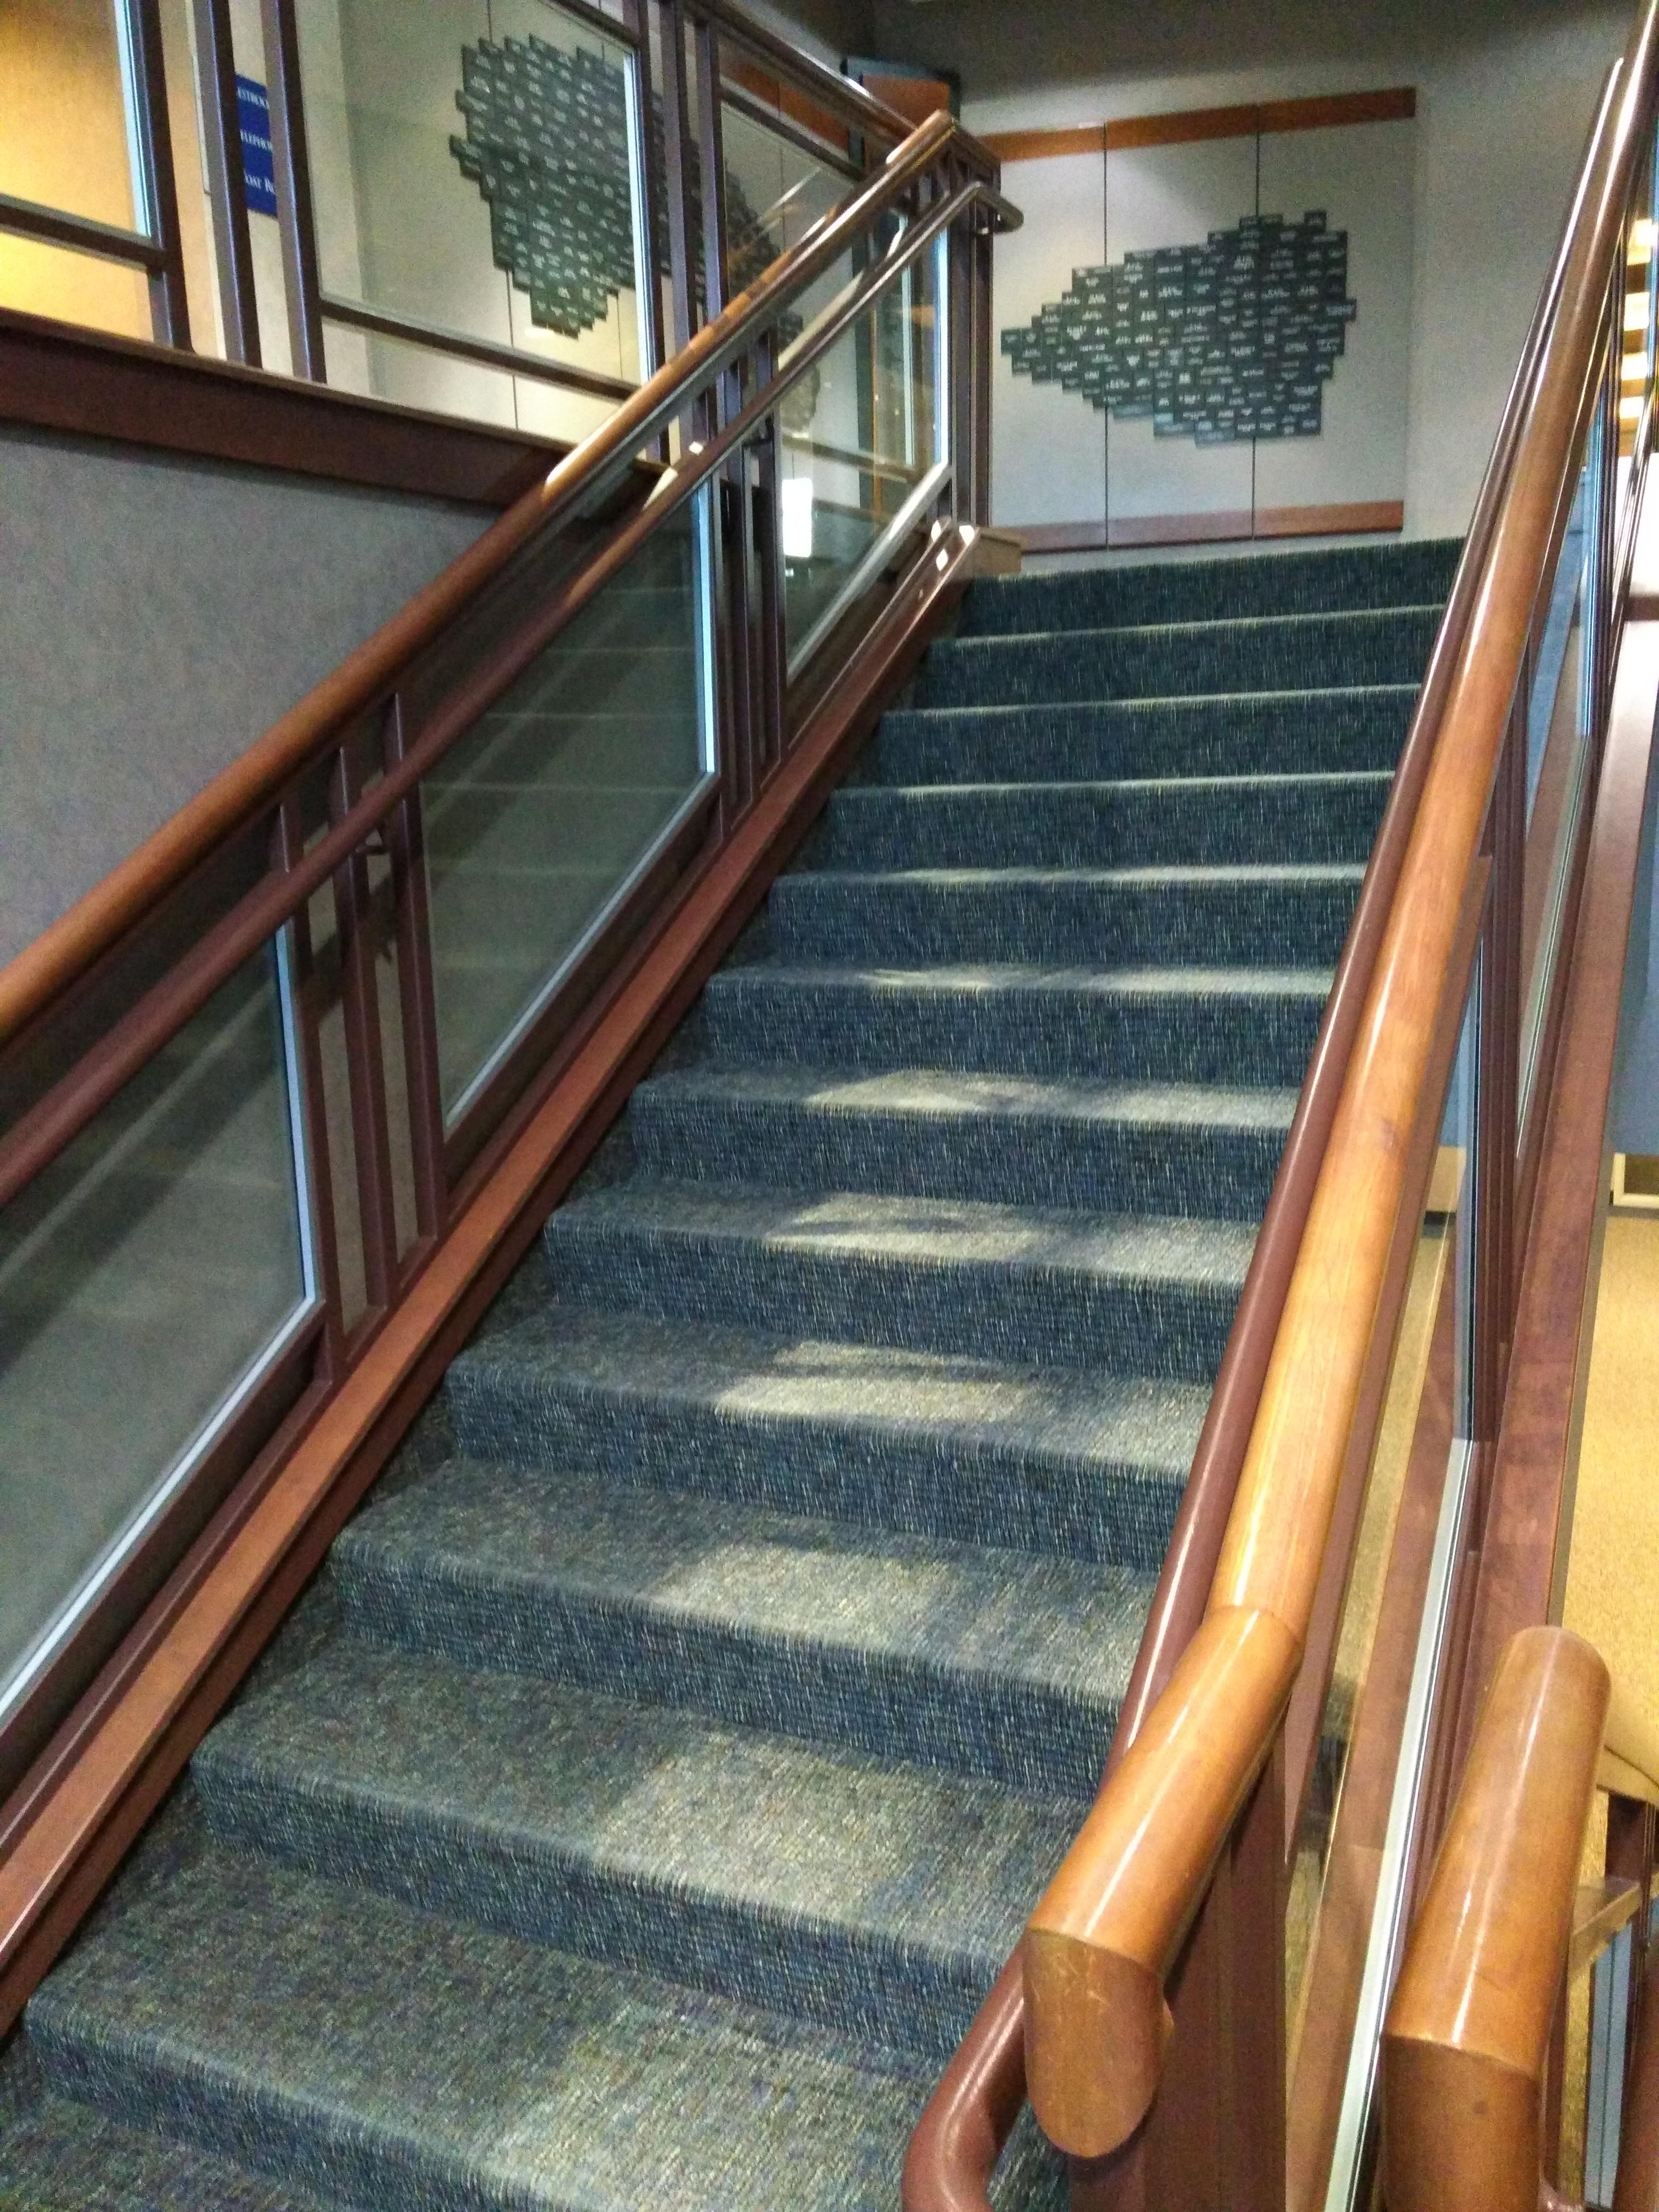stairs_up: (186, 336, 1513, 1902)
